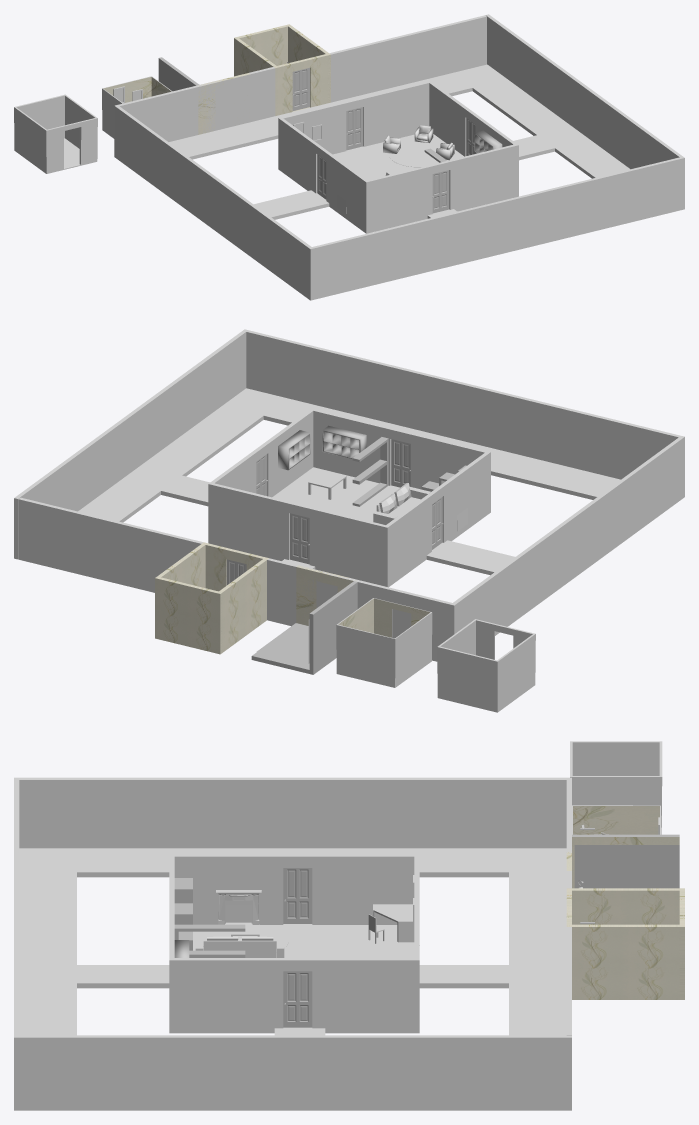
File: Table.fbx
3 renders of one model, top to bottom at view 1: azimuth 30°, elevation 25°; view 2: azimuth 150°, elevation 25°; view 3: azimuth 270°, elevation 25°, orthographic. The views are drawn at different scales.
Visible parts, largest first — view 1: Plane.039, Plane.037, Plane.038, Plane.035, Plane.032, Plane.036, Plane.029, Plane.013, Plane.031, Plane.034, Plane.017, Plane.033 (+16 smaller); view 2: Plane.039, Plane.037, Plane.038, Plane.035, Plane.031, Plane.013, Plane.029, Plane.034, Plane.018, Plane.032, Plane.036, Plane (+18 smaller); view 3: Plane.038, Plane.037, Plane.033, Plane.034, Plane.018, Plane.017, Plane.028, Plane.015, Plane.013, pngwing.com (2), Plane.030, Plane.021 (+15 smaller).
Part boxes in pixels (<box>): Plane.039: <box>308,156,684,300</box>; Plane.037: <box>114,105,311,298</box>; Plane.038: <box>485,14,682,169</box>; Plane.035: <box>329,15,486,102</box>; Plane.032: <box>368,144,515,232</box>; Plane.036: <box>118,67,275,141</box>; Plane.029: <box>453,64,629,178</box>; Plane.013: <box>14,94,97,173</box>; Plane.031: <box>282,81,429,154</box>; Plane.034: <box>278,117,369,233</box>; Plane.017: <box>169,73,472,159</box>; Plane.033: <box>428,81,518,197</box>; Plane.039: <box>243,329,684,498</box>; Plane.037: <box>450,437,682,636</box>; Plane.038: <box>14,331,246,559</box>; Plane.035: <box>18,497,203,592</box>; Plane.031: <box>212,483,385,585</box>; Plane.013: <box>437,619,535,712</box>; Plane.029: <box>78,405,263,522</box>; Plane.034: <box>383,451,490,587</box>; Plane.018: <box>223,388,620,499</box>; Plane.032: <box>313,409,486,489</box>; Plane.036: <box>267,558,451,661</box>; Plane: <box>336,598,432,687</box>; Plane.038: <box>19,1035,571,1110</box>; Plane.037: <box>19,777,571,848</box>; Plane.033: <box>169,958,419,1033</box>; Plane.034: <box>169,854,419,924</box>; Plane.018: <box>19,848,76,1035</box>; Plane.017: <box>509,872,566,1035</box>; Plane.028: <box>77,848,566,877</box>; Plane.015: <box>566,924,679,999</box>; Plane.013: <box>570,741,662,834</box>; pngwing.com (2): <box>572,834,679,888</box>; Plane.030: <box>193,925,414,957</box>; Plane.021: <box>572,888,679,924</box>.
Size of the model in its own units: 2707 by 306 by 2496.
